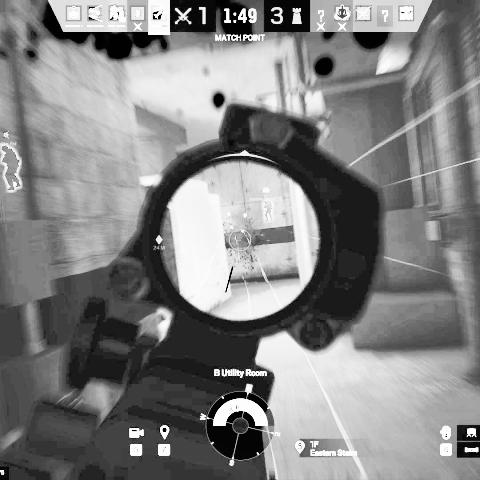Friend_label: (250, 186, 284, 202), (0, 130, 17, 146)
